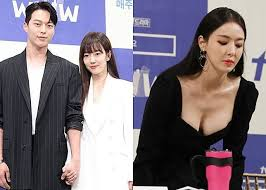people: (135, 10, 257, 190), (1, 4, 83, 190), (75, 32, 133, 190)
